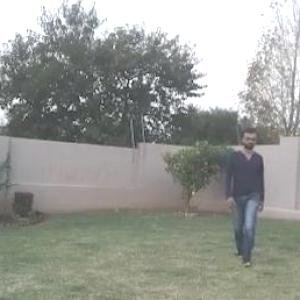follow: (224, 130, 266, 263)
